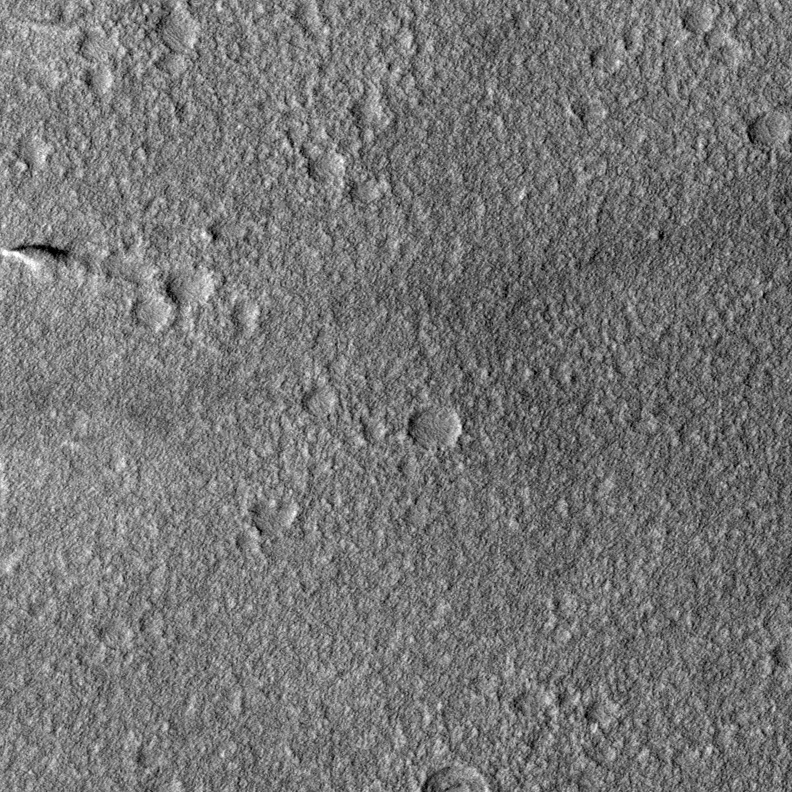dust_devil: (1, 241, 73, 272)
